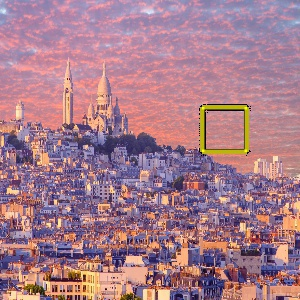square: (198, 103, 251, 156)
